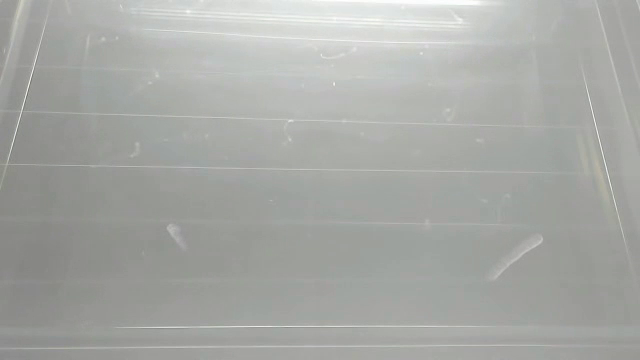alpha: (483, 230, 550, 283), (164, 220, 190, 253)
